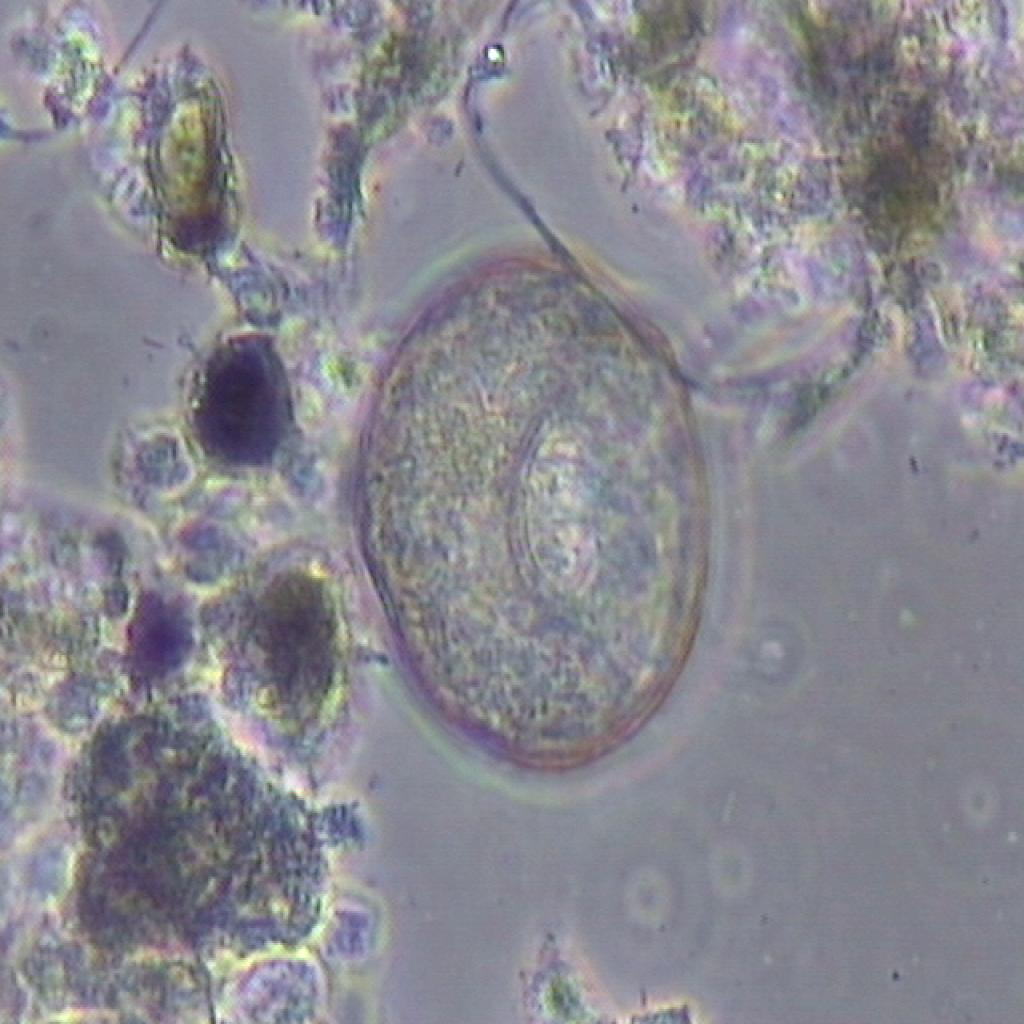Arcella: (342, 223, 740, 805)
